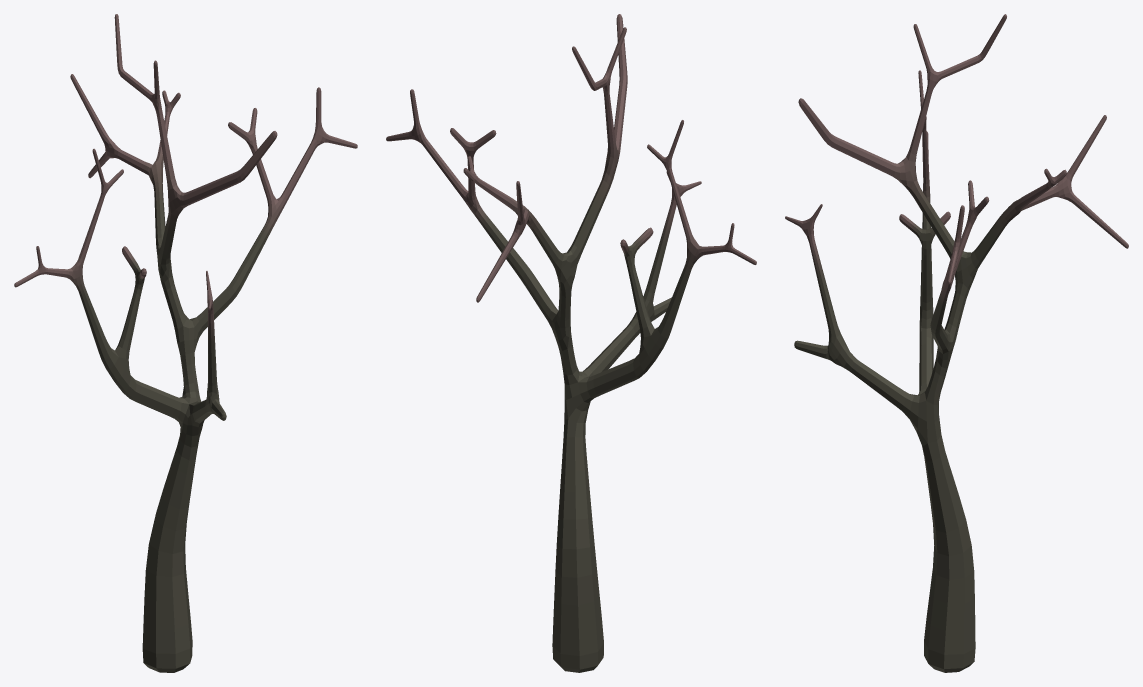
The model's file is tree_dead_2.fbx.
3 views of the same model, side by side, from view 1: azimuth 30°, elevation 25°; view 2: azimuth 150°, elevation 25°; view 3: azimuth 270°, elevation 25° (orthographic).
Visible parts, largest first — view 1: tree_dead_2; view 2: tree_dead_2; view 3: tree_dead_2.
Boxes of the visible parts, x1,y1,x2,y2 form: tree_dead_2: (14,14,357,672); tree_dead_2: (386,14,756,672); tree_dead_2: (785,14,1128,672).
Bounding box in the file's own units: 504 × 869 × 422.
